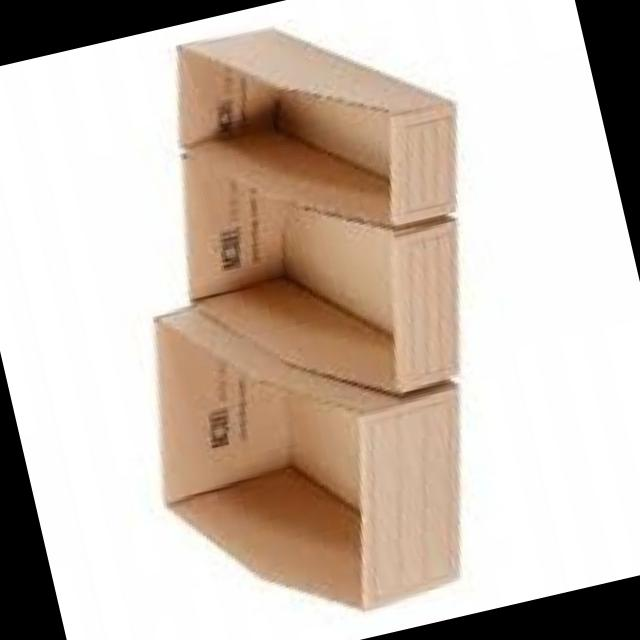cardboard paper: (153, 32, 455, 610)
